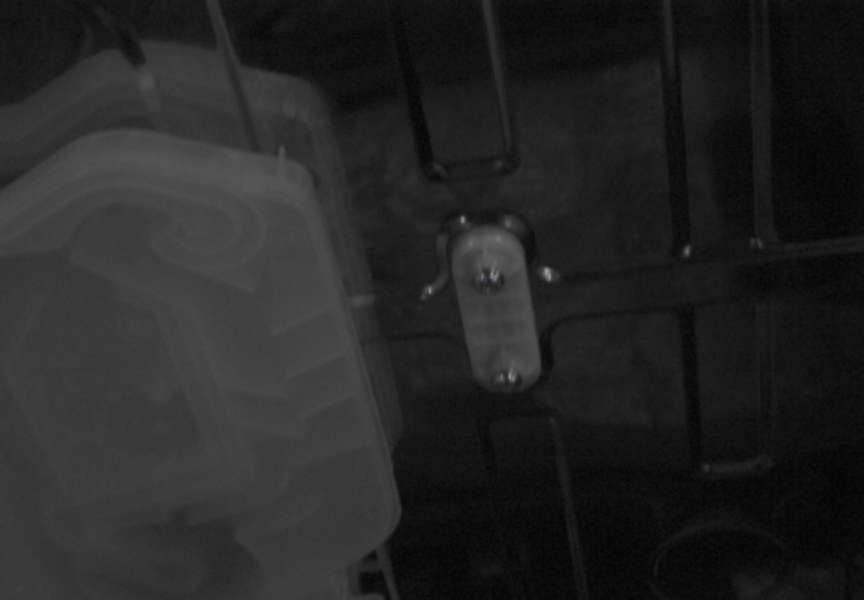screw: (473, 267, 505, 295), (492, 368, 522, 391)
